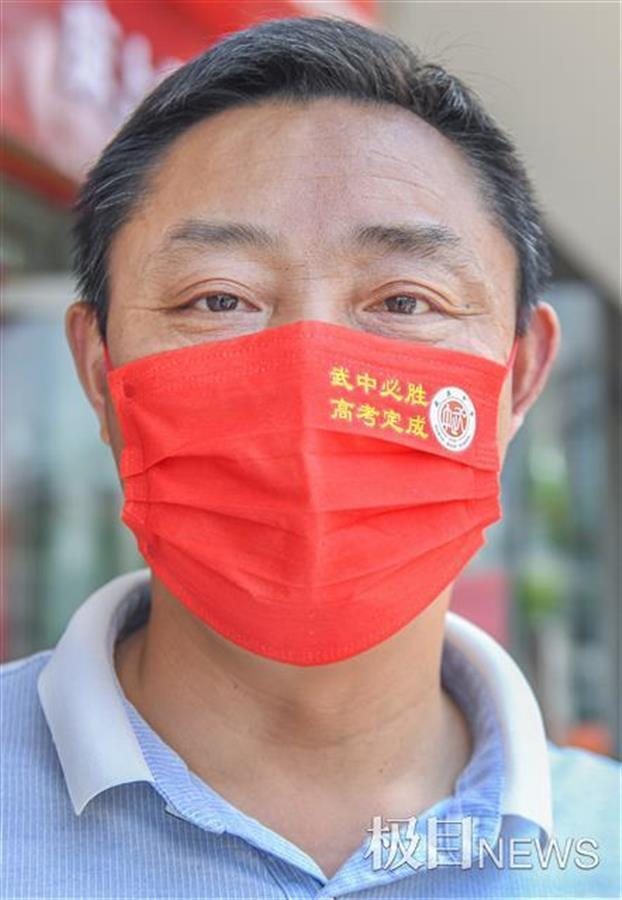mask: (118, 139, 529, 661)
